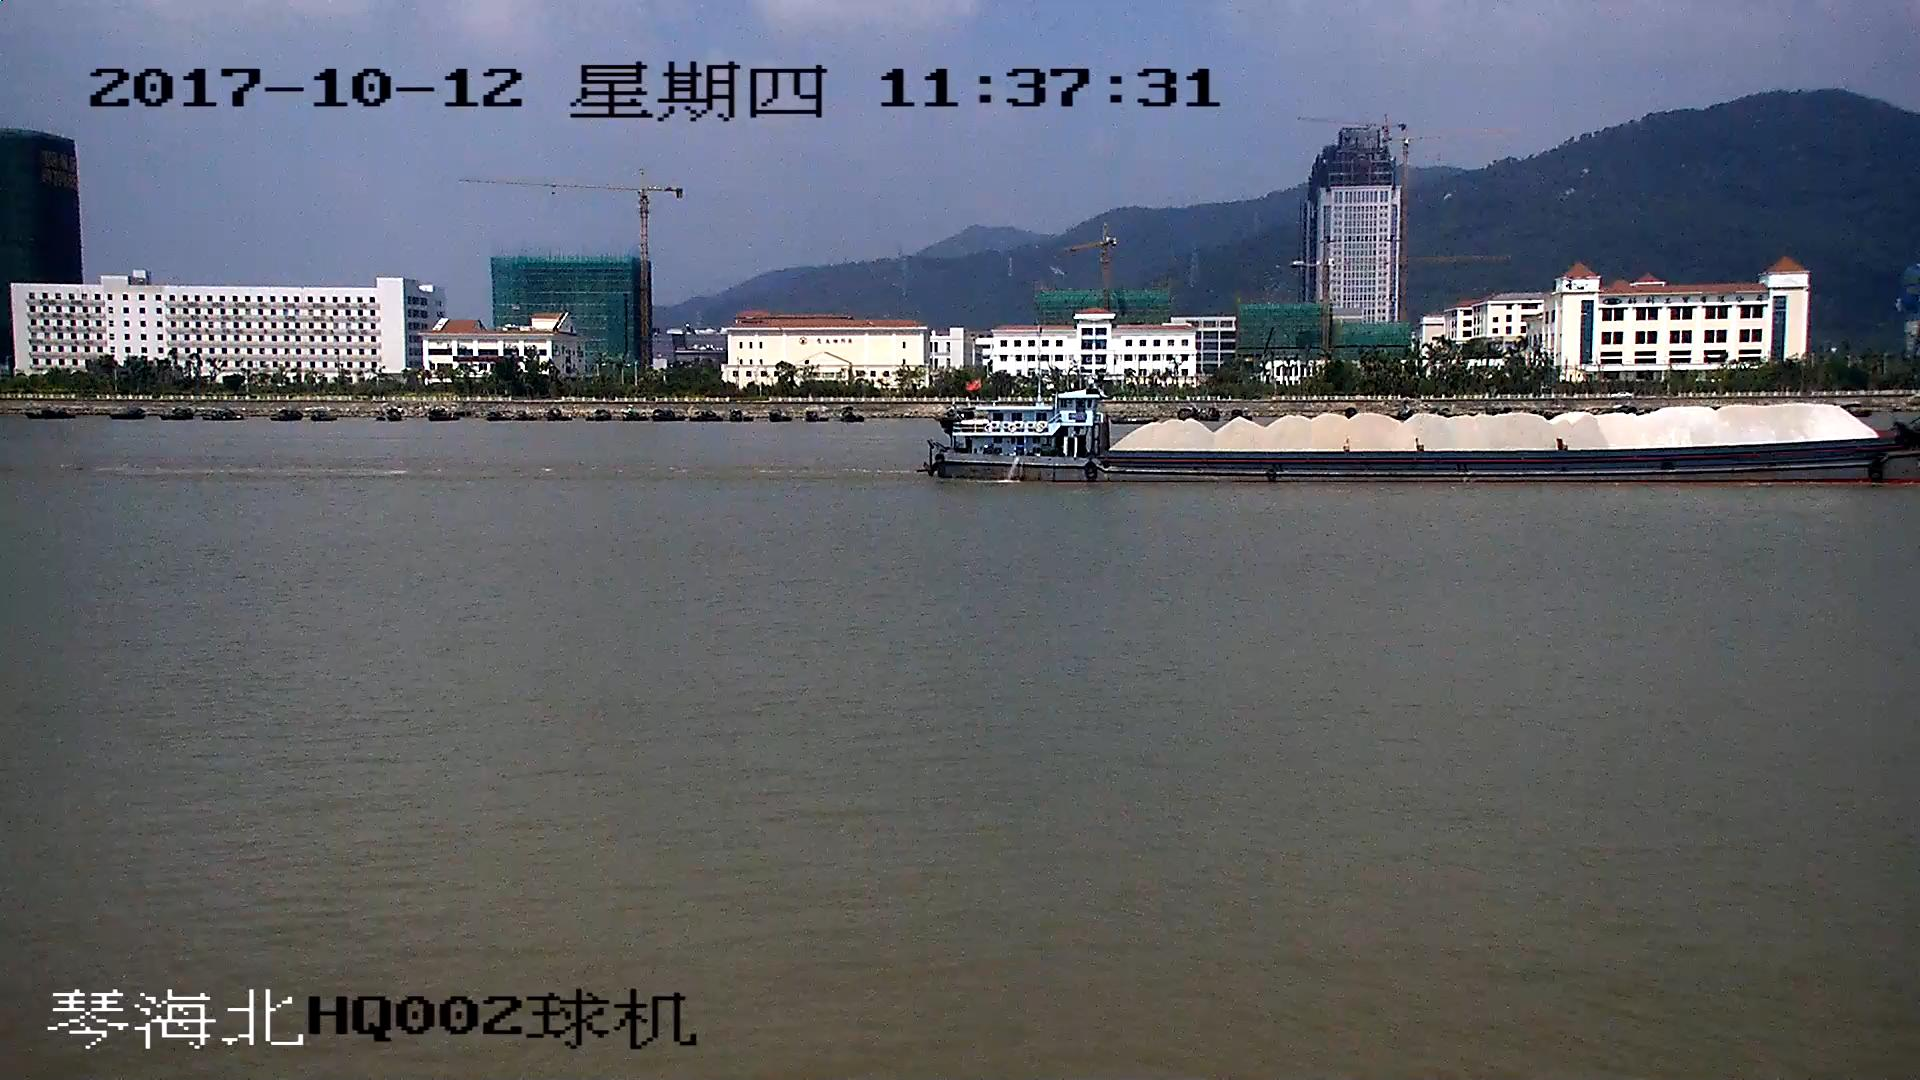ore carrier: (932, 393, 1920, 481)
